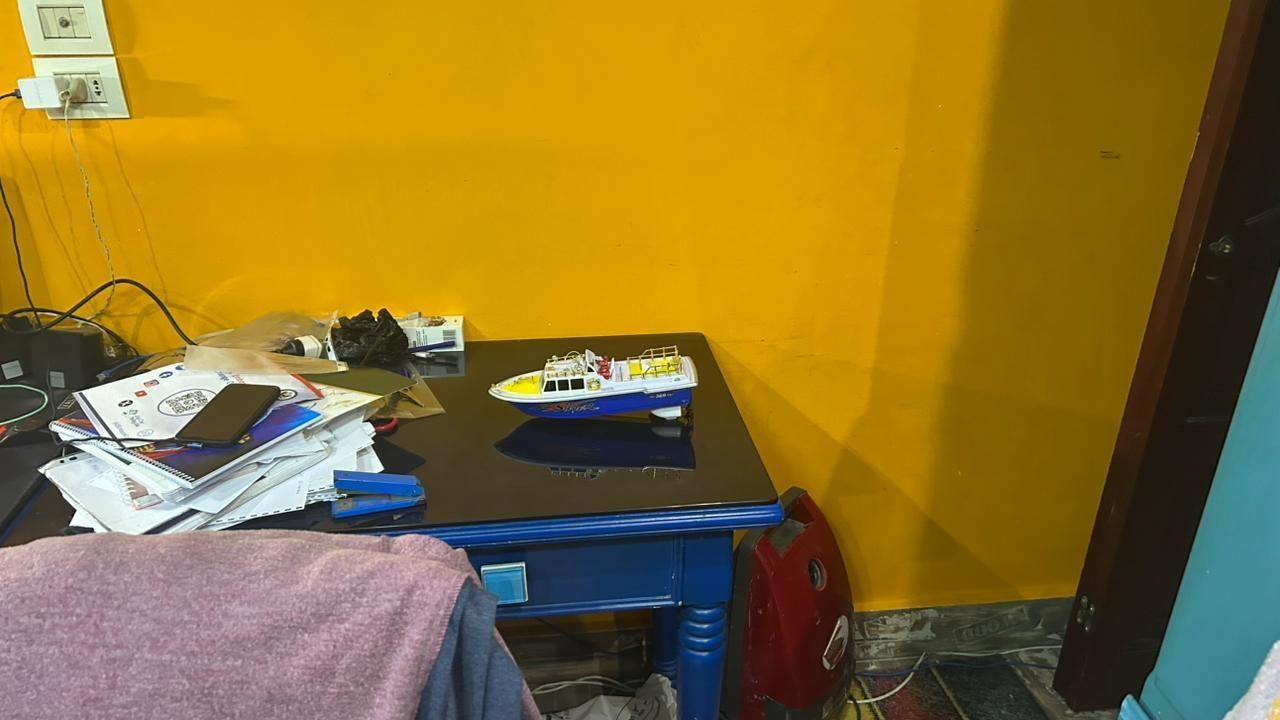Boat: (482, 343, 704, 428)
